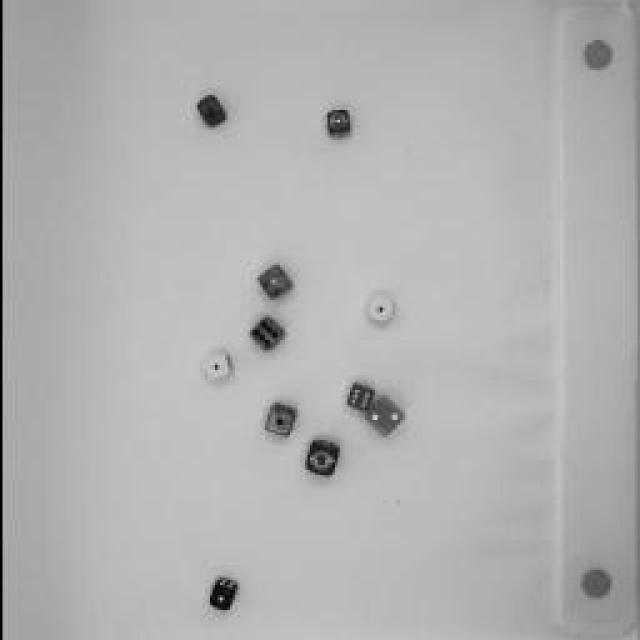dice_1: (301, 438, 341, 480), (262, 399, 300, 439), (255, 264, 293, 301), (361, 295, 399, 330), (205, 579, 240, 616), (202, 350, 236, 385), (192, 91, 222, 129), (320, 110, 350, 140)
dice_2: (366, 398, 406, 444)
dice_6: (245, 311, 285, 354), (345, 382, 370, 412)
